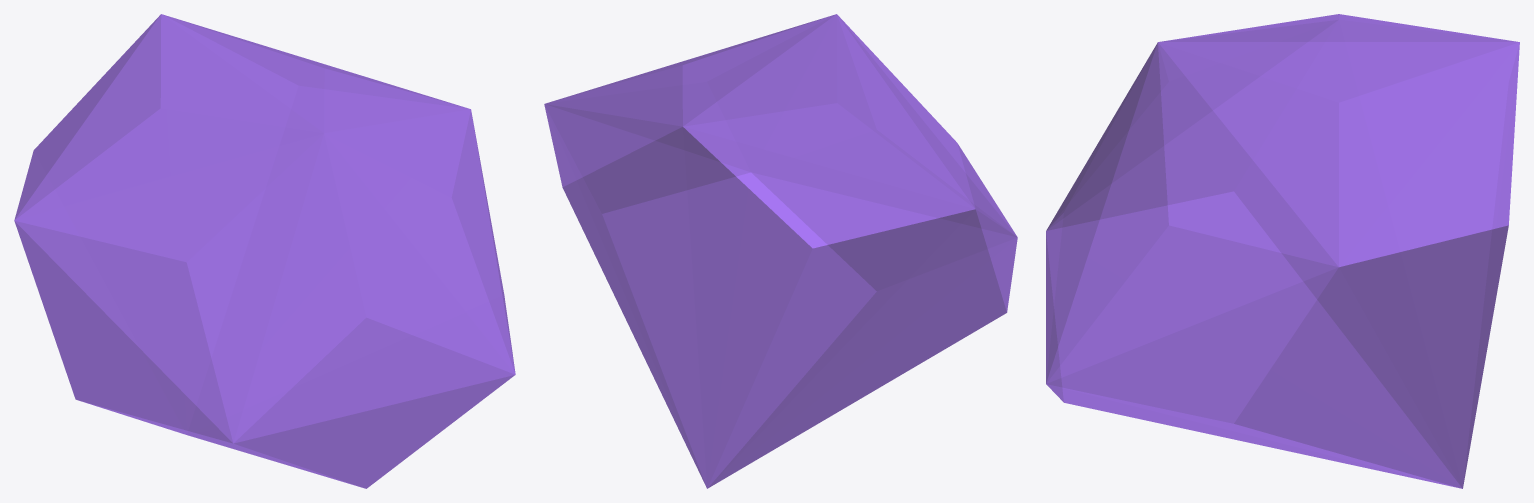
The model's file is TriakisIcosahedron.obj.
3 renders of one model, left to right at view 1: azimuth 30°, elevation 25°; view 2: azimuth 150°, elevation 25°; view 3: azimuth 270°, elevation 25°, orthographic. The views are drawn at different scales.
Bounding box in the file's own units: 5.85 × 4.93 × 4.74.
